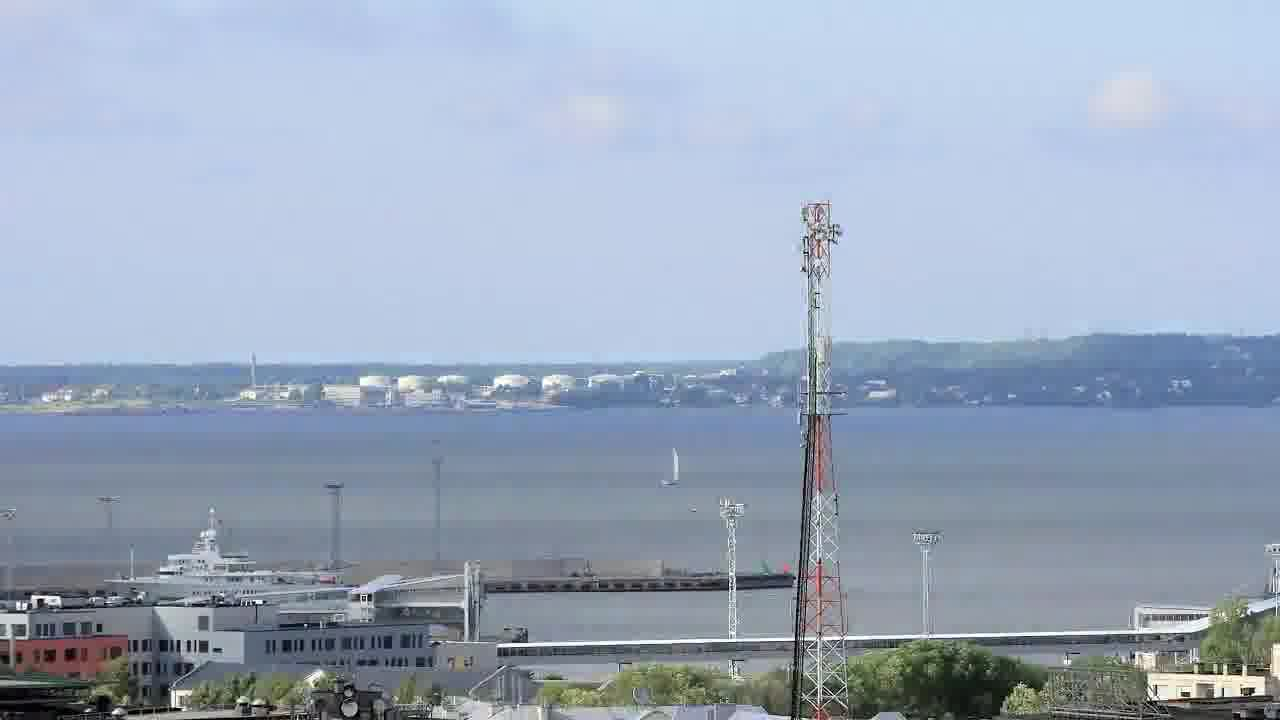type-2: (643, 430, 706, 498)
type-3: (84, 515, 355, 603)
